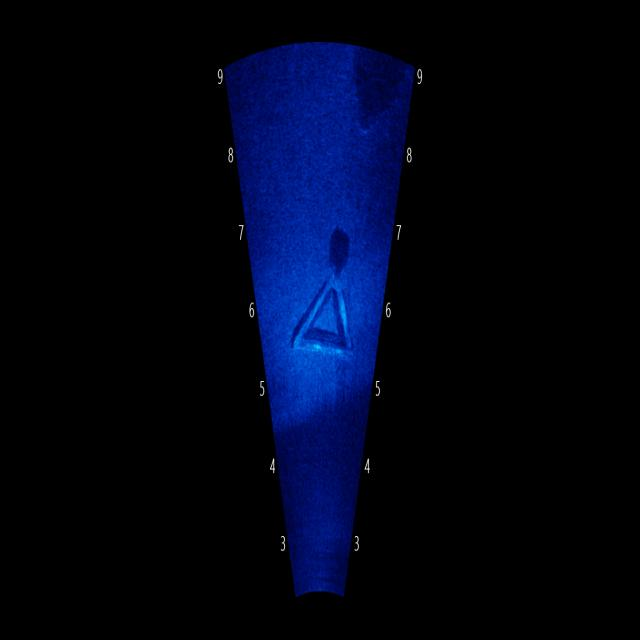triangle: (285, 225, 363, 388)
